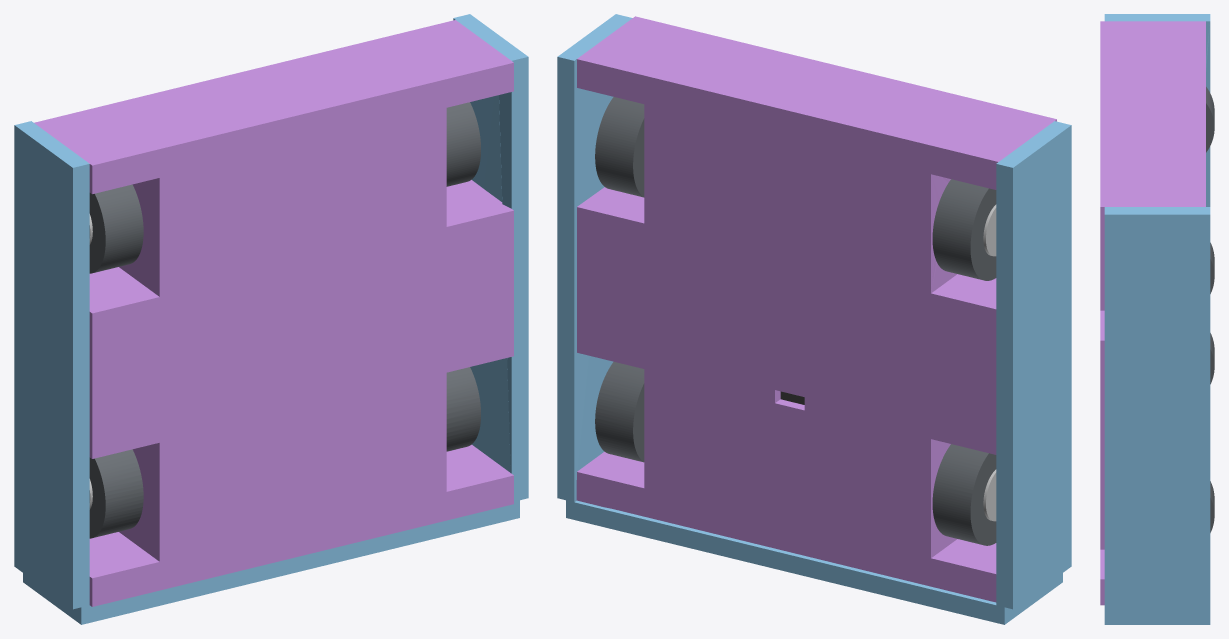
The model's file is road_runner.glb.
3 renders of one model, left to right at view 1: azimuth 30°, elevation 25°; view 2: azimuth 150°, elevation 25°; view 3: azimuth 270°, elevation 25°, orthographic. The views are drawn at different scales.
Visible parts, largest first — view 1: chassis, side_wall_r, side_wall_l, rear_wall, wheel_r0, wheel_r1, wheel_l1, wheel_l0; view 2: chassis, side_wall_r, side_wall_l, rear_wall, wheel_r1, wheel_r0, wheel_l0, wheel_l1; view 3: side_wall_l, chassis, side_wall_r, rear_wall, wheel_r1, wheel_r0, wheel_l0, wheel_l1.
Part boxes in pixels (x1,y1,x2,y2): chassis: (34,20,513,606); side_wall_r: (14,121,89,609); side_wall_l: (453,14,528,501); rear_wall: (23,500,519,624); wheel_r0: (89,449,143,538); wheel_r1: (89,184,143,273); wheel_l1: (446,102,480,186); wheel_l0: (446,367,480,451); chassis: (576,16,1056,602); side_wall_r: (996,121,1071,609); side_wall_l: (557,14,632,502); rear_wall: (566,500,1062,624); wheel_r1: (932,179,996,280); wheel_r0: (932,444,996,545); wheel_l0: (595,362,644,462); wheel_l1: (595,97,644,197); side_wall_l: (1104,207,1210,612); chassis: (1100,21,1205,605); side_wall_r: (1104,14,1210,206); rear_wall: (1104,612,1210,624); wheel_r1: (1206,87,1214,152); wheel_r0: (1210,333,1214,384); wheel_l0: (1210,481,1214,532); wheel_l1: (1210,242,1214,293).
Bounding box in the file's own units: 108 × 104 × 26.
